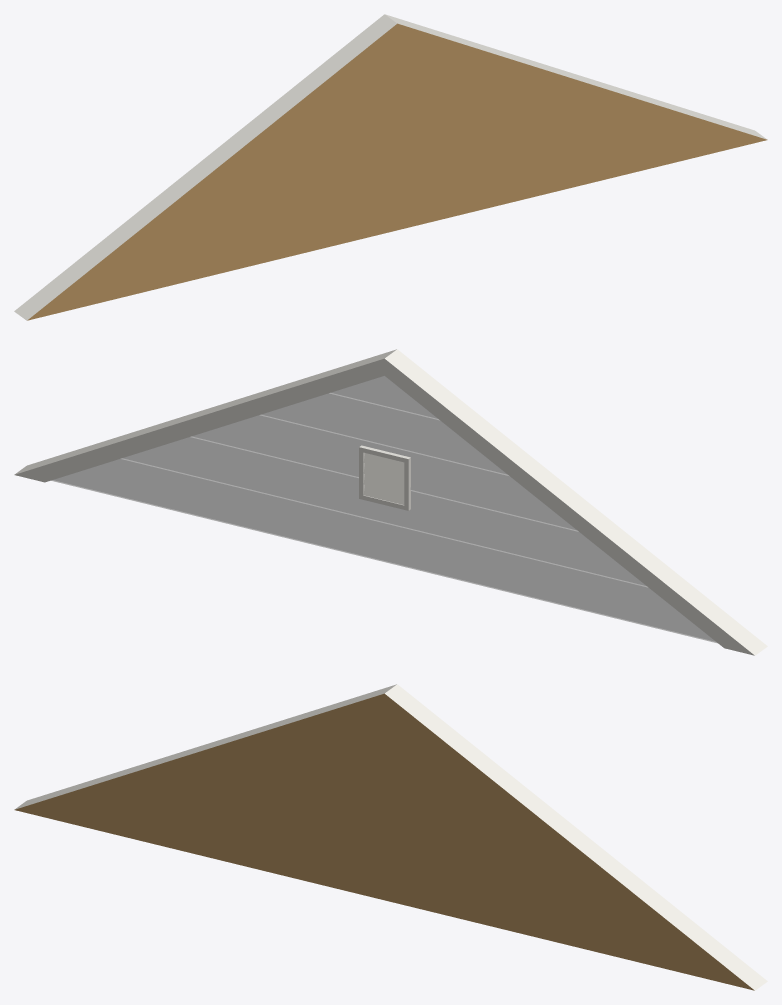
File: house_gable_9.glb
3 views of the same model, one above another, from view 1: azimuth 30°, elevation 25°; view 2: azimuth 150°, elevation 25°; view 3: azimuth 330°, elevation 25° (orthographic).
Visible parts, largest first — view 1: house_gable_9__mesh; view 2: house_gable_9__mesh; view 3: house_gable_9__mesh.
Boxes of the visible parts, x1,y1,x2,y2 form: house_gable_9__mesh: [14, 14, 767, 320]; house_gable_9__mesh: [14, 349, 767, 655]; house_gable_9__mesh: [14, 684, 767, 990].
Size of what is drawn, in the model's own units: 9 by 2.4 by 0.285.
1 material, 1 textured.
